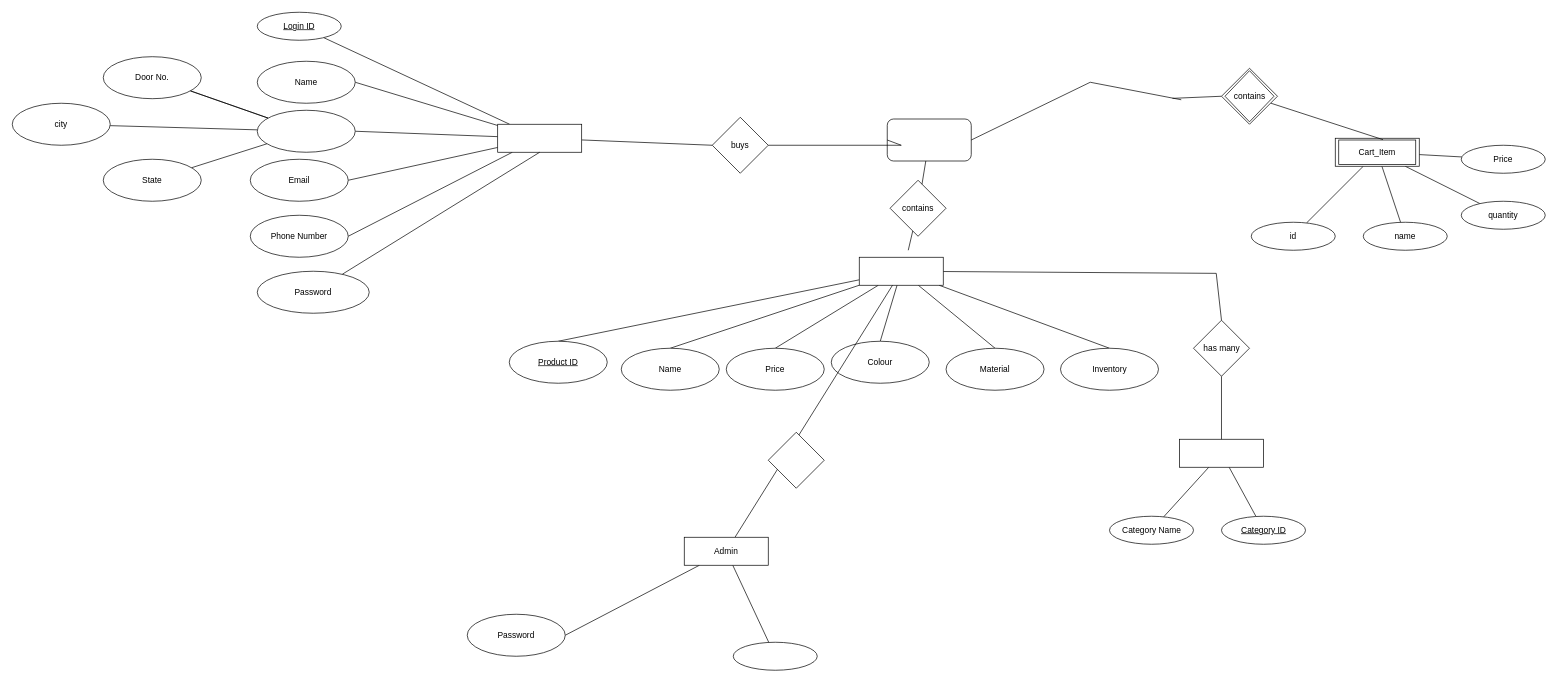
The diagram is 1558 pixels wide and 683 high, and some of its shapes have lost their labels. Each missing label, with the centre of its shape:
"Address" goes at (306,131).
"admin ID" goes at (775,656).
"Category" goes at (1221,453).
"Customer" goes at (539,138).
"manages" goes at (796,460).
"order" goes at (929,139).
"Product" goes at (901,271).
